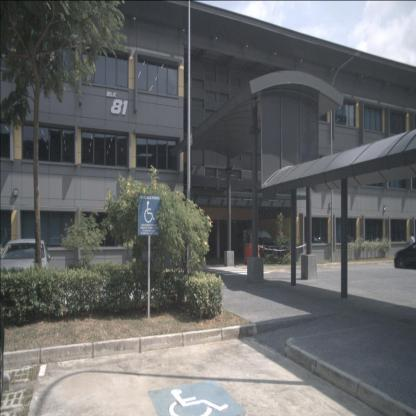barrier: (243, 243, 260, 265)
